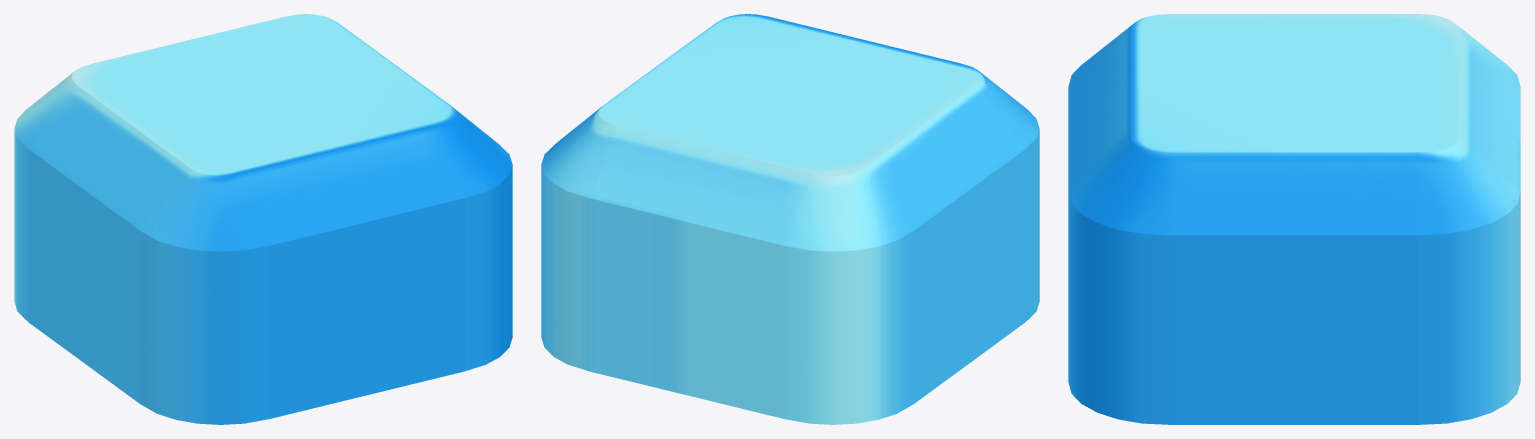
The model's file is Block_1x1_Blue.glb.
3 renders of one model, left to right at view 1: azimuth 30°, elevation 25°; view 2: azimuth 150°, elevation 25°; view 3: azimuth 270°, elevation 25°, orthographic. The views are drawn at different scales.
Parts seen in each view (by area): view 1: Edge_Bottom, FrontFace, Edge_Left, Corner_BottomLeft, Corner_BottomRight, Corner_TopLeft; view 2: Edge_Top, FrontFace, Edge_Left, Corner_TopLeft, Corner_TopRight, Corner_BottomLeft; view 3: Edge_Right, FrontFace, Corner_TopRight, Corner_BottomRight, Edge_Top, Edge_Bottom, Corner_TopLeft, Corner_BottomLeft.
Part boxes in pixels (left/top/right/bottom): Edge_Bottom: left=241, top=126, right=463, bottom=418; FrontFace: left=71, top=14, right=455, bottom=176; Edge_Left: left=28, top=86, right=189, bottom=403; Corner_BottomLeft: left=140, top=168, right=269, bottom=424; Corner_BottomRight: left=436, top=106, right=512, bottom=371; Corner_TopLeft: left=14, top=71, right=77, bottom=321; Edge_Top: left=590, top=126, right=812, bottom=418; FrontFace: left=598, top=14, right=982, bottom=176; Edge_Left: left=864, top=86, right=1025, bottom=403; Corner_TopLeft: left=784, top=168, right=913, bottom=424; Corner_TopRight: left=541, top=106, right=617, bottom=371; Corner_BottomLeft: left=976, top=71, right=1039, bottom=321; Edge_Right: left=1171, top=153, right=1417, bottom=424; FrontFace: left=1130, top=14, right=1458, bottom=152; Corner_TopRight: left=1417, top=135, right=1520, bottom=424; Corner_BottomRight: left=1068, top=135, right=1171, bottom=424; Edge_Top: left=1458, top=32, right=1520, bottom=190; Edge_Bottom: left=1068, top=32, right=1130, bottom=190; Corner_TopLeft: left=1453, top=22, right=1520, bottom=86; Corner_BottomLeft: left=1068, top=22, right=1135, bottom=86.
Size of the model in its own units: 1 by 0.5995 by 1.
Materials: 1 (1 with a texture image).
